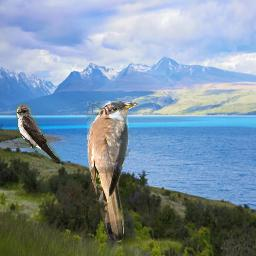Cuckoo: (87, 101, 138, 242)
Swallow: (16, 104, 62, 165)
